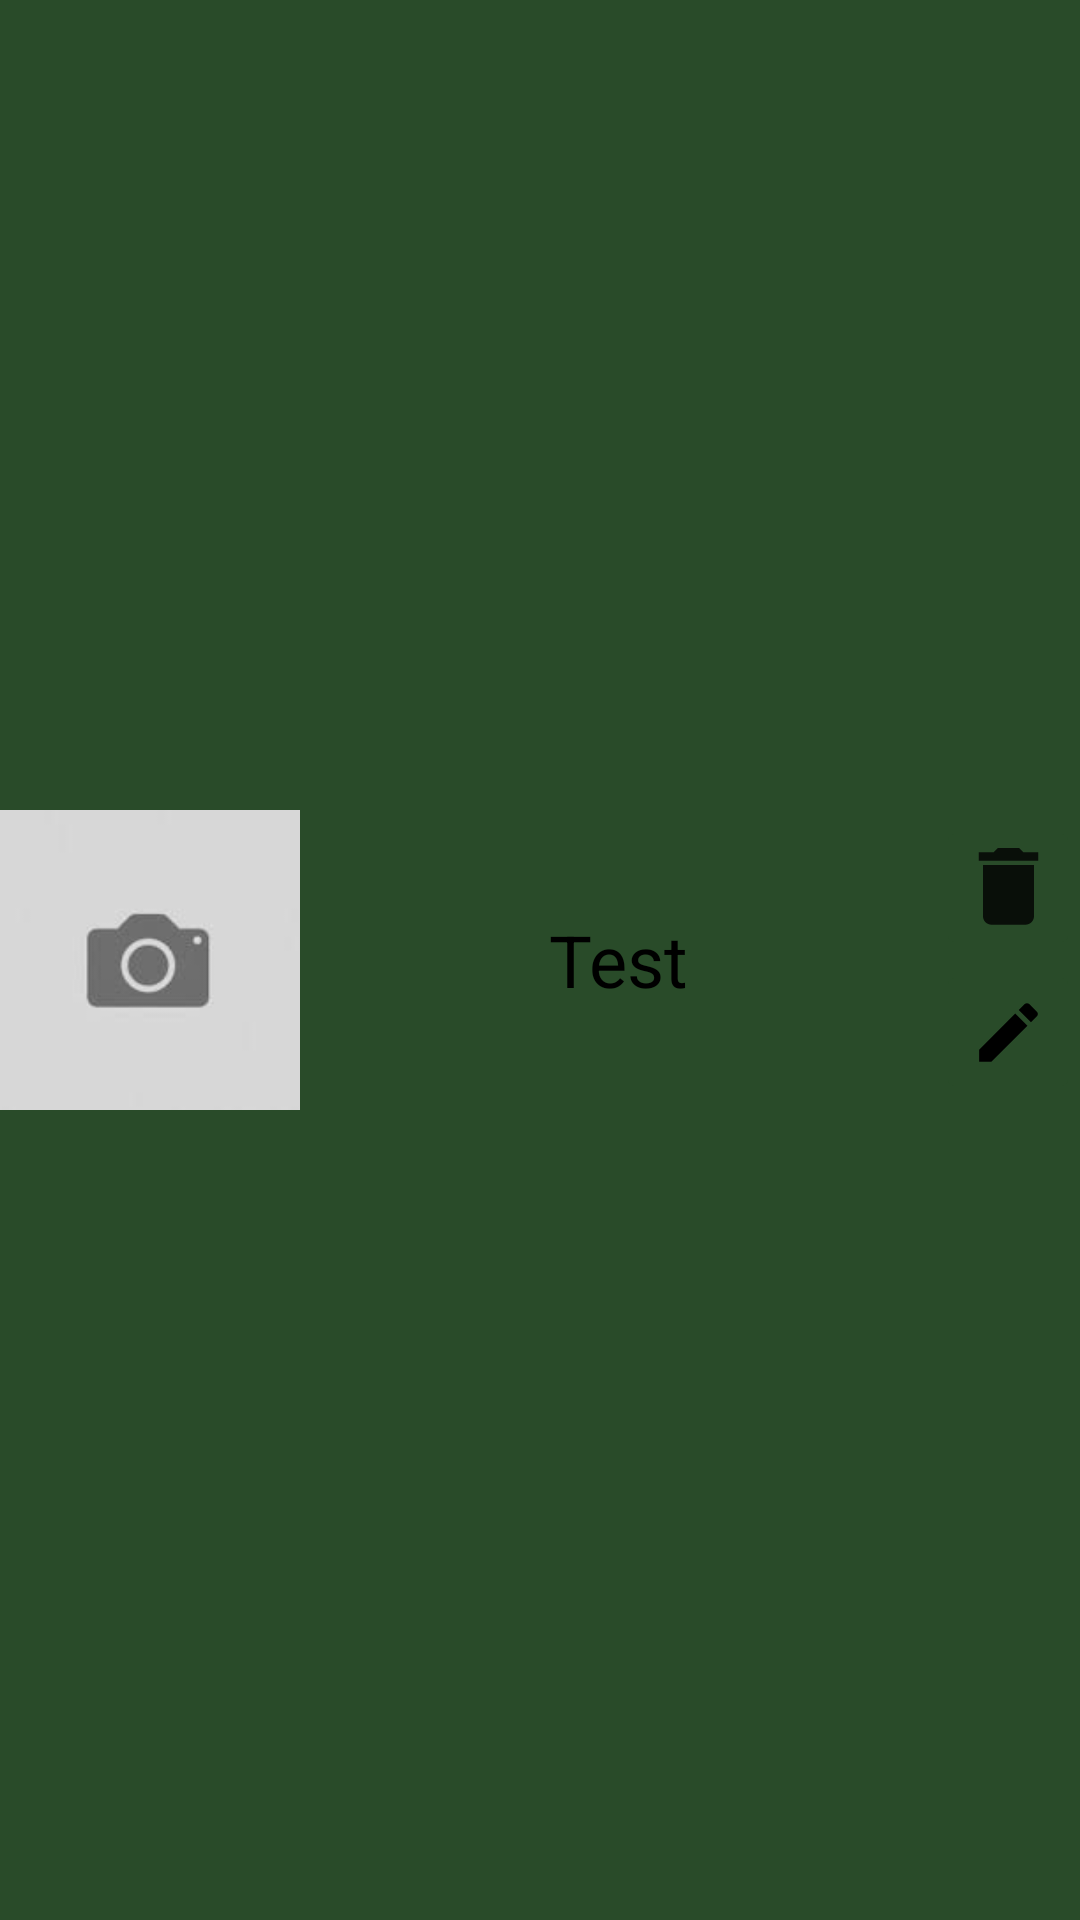

Screen size 1080 × 1920. Icon name, then its center in pixels as [x,y]:
kameraplatzhalter: [150,960]
Rezept bearbeiten: [1008,1032]
